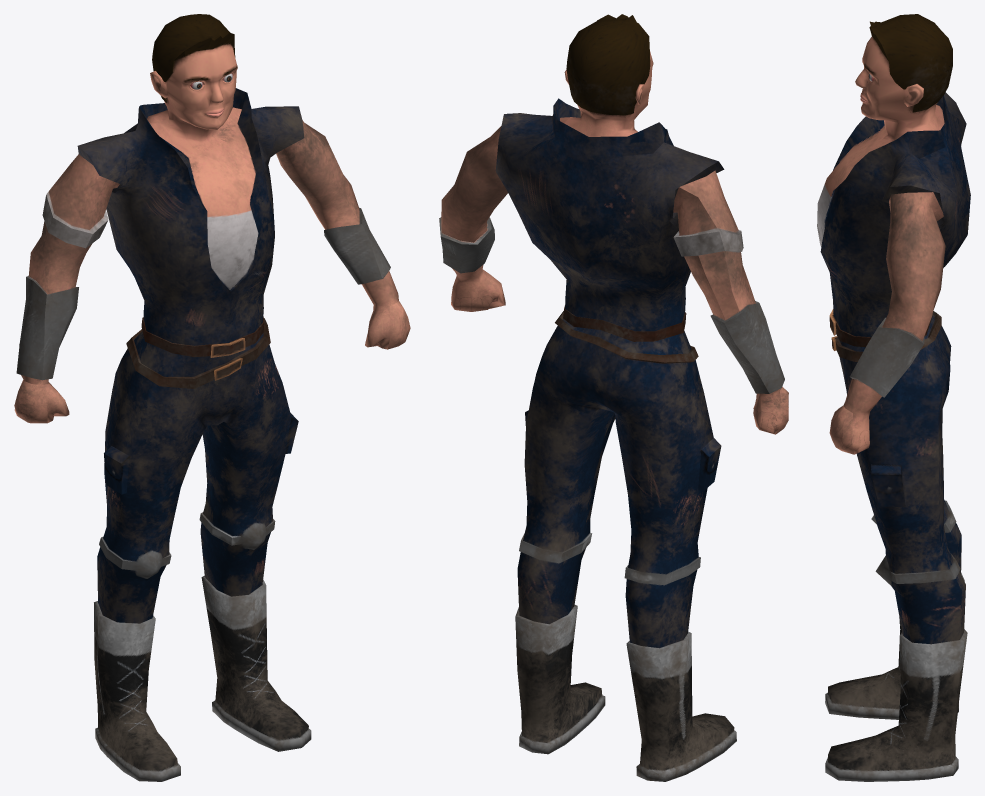
File: Anim_idle_jugador.0019.obj
The picture shows the model from 3 angles, left to right: view 1: azimuth 30°, elevation 25°; view 2: azimuth 150°, elevation 25°; view 3: azimuth 270°, elevation 25°; orthographic projection.
Visible parts, largest first — view 1: polySurface1; view 2: polySurface1; view 3: polySurface1.
Boxes of the visible parts, x1,y1,x2,y2 form: polySurface1: (14, 14, 410, 781); polySurface1: (439, 14, 788, 781); polySurface1: (817, 14, 970, 781).
Bounding box in the file's own units: 5.08 × 9.65 × 1.86.
